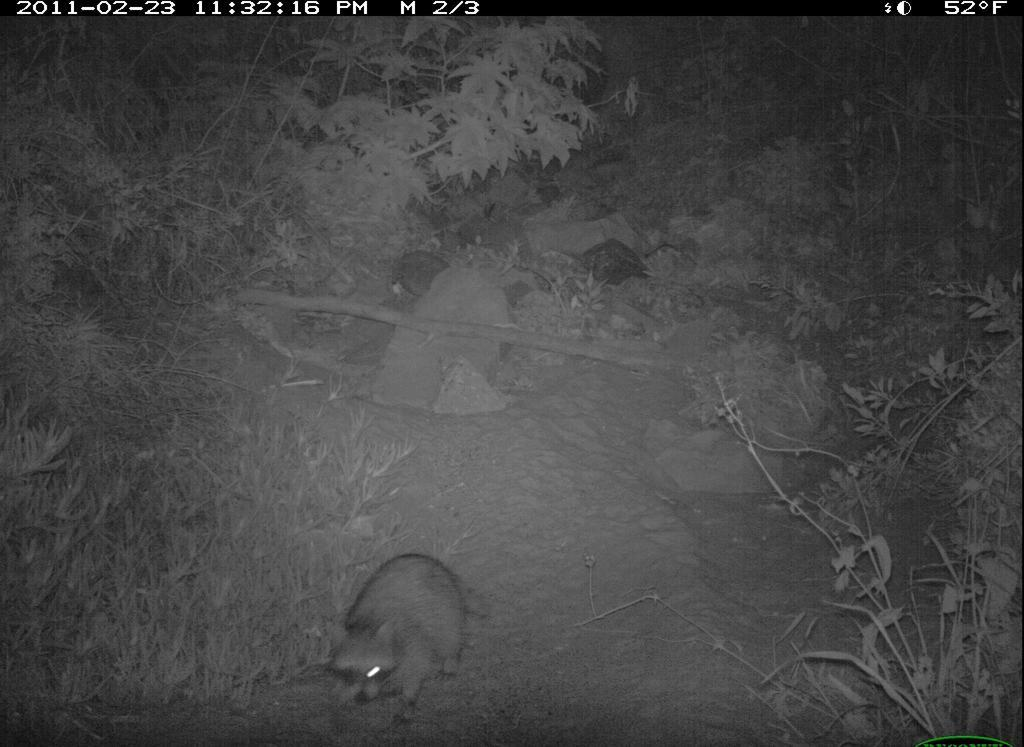raccoon: (328, 543, 478, 731)
